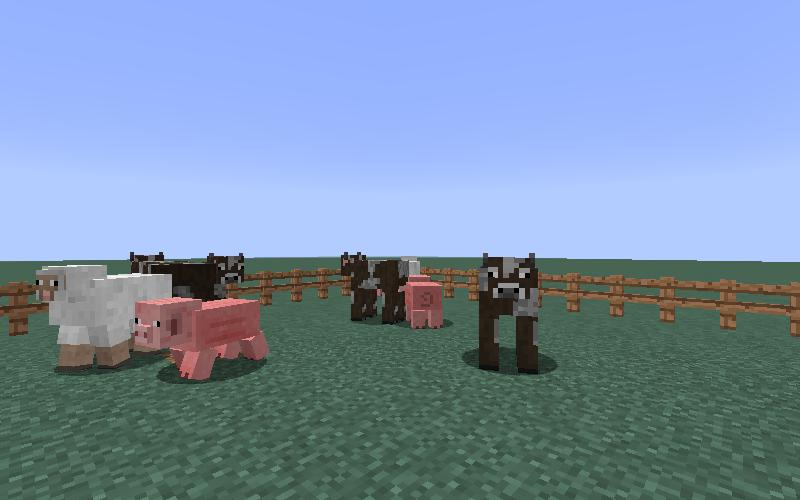cow: (469, 247, 547, 384), (338, 249, 412, 328), (166, 253, 246, 301)
pig: (131, 294, 277, 388), (398, 269, 451, 333)
sheep: (30, 261, 177, 378)
